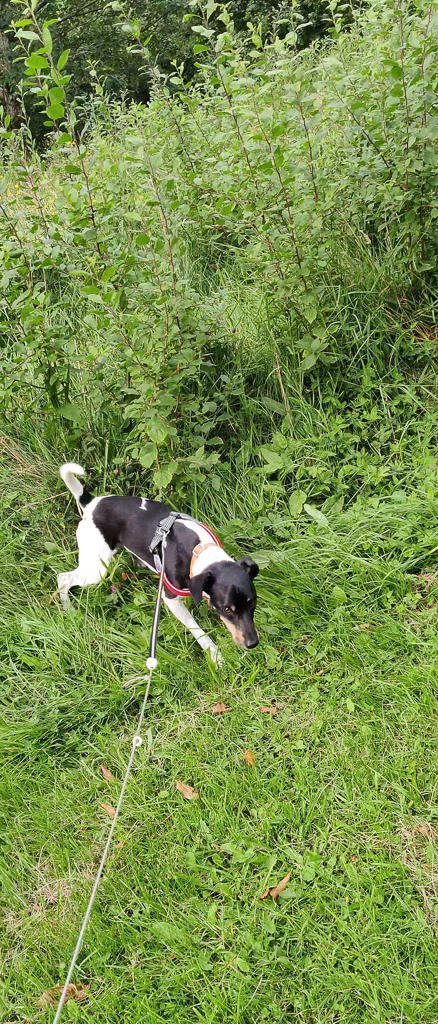Dog: (42, 449, 281, 690)
